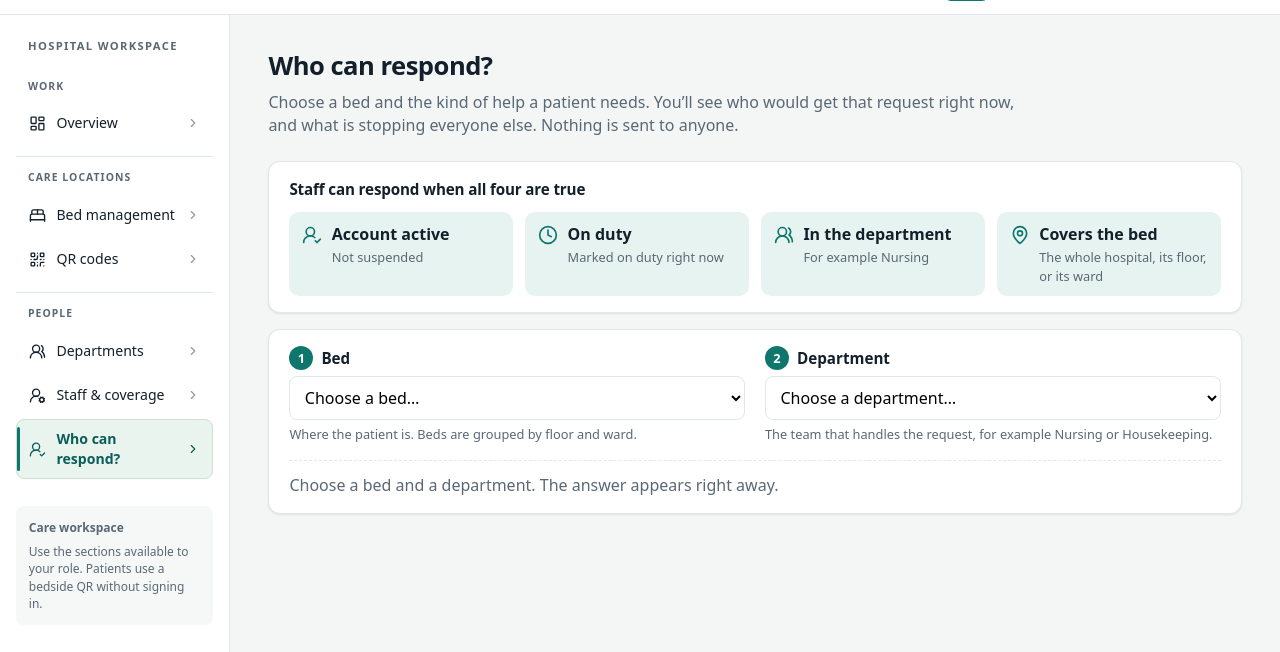
Scenario: Who can respond? › checks as soon as both are chosen and explains everyone else in the department
The image size is (1280, 652).
Select "Bed A 01" in the dropdown labelled "Bed" at (517,398), box [289,376,745,420]
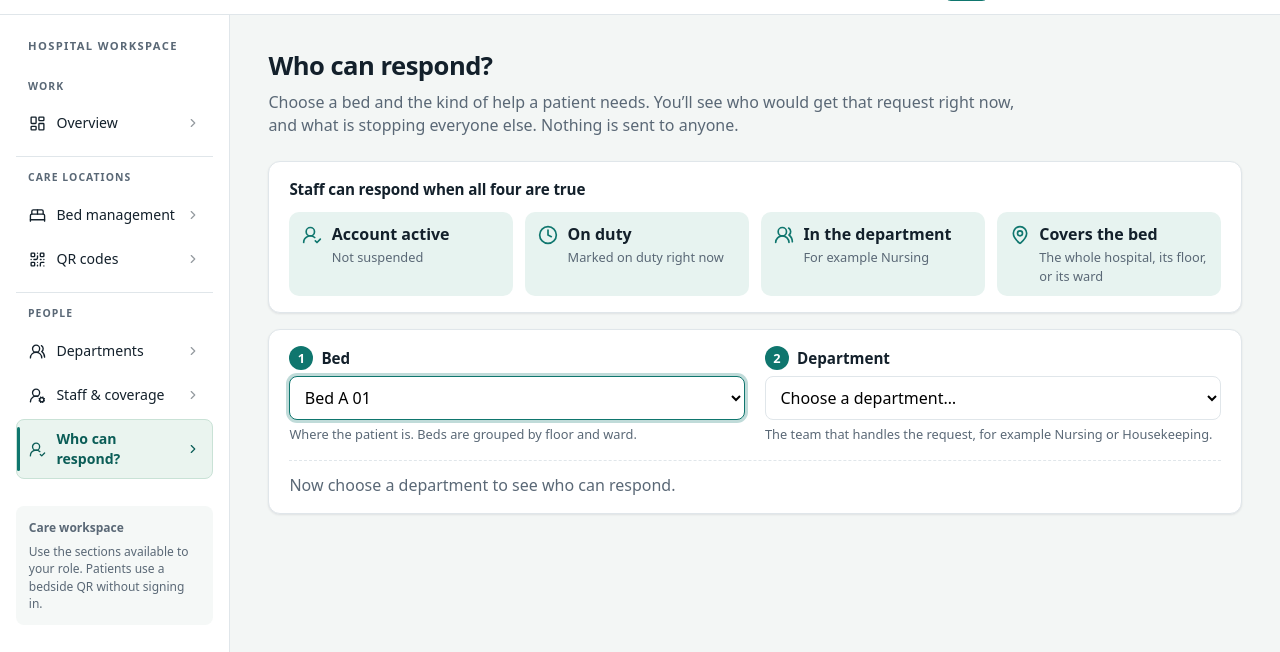
Check: the text "Now choose a department to see who can respond." is shown, box [289,460,1221,498]
Select "Nursing" in the dropdown labelled "Department" at (993,398), box [765,376,1221,420]
(page scrolled)
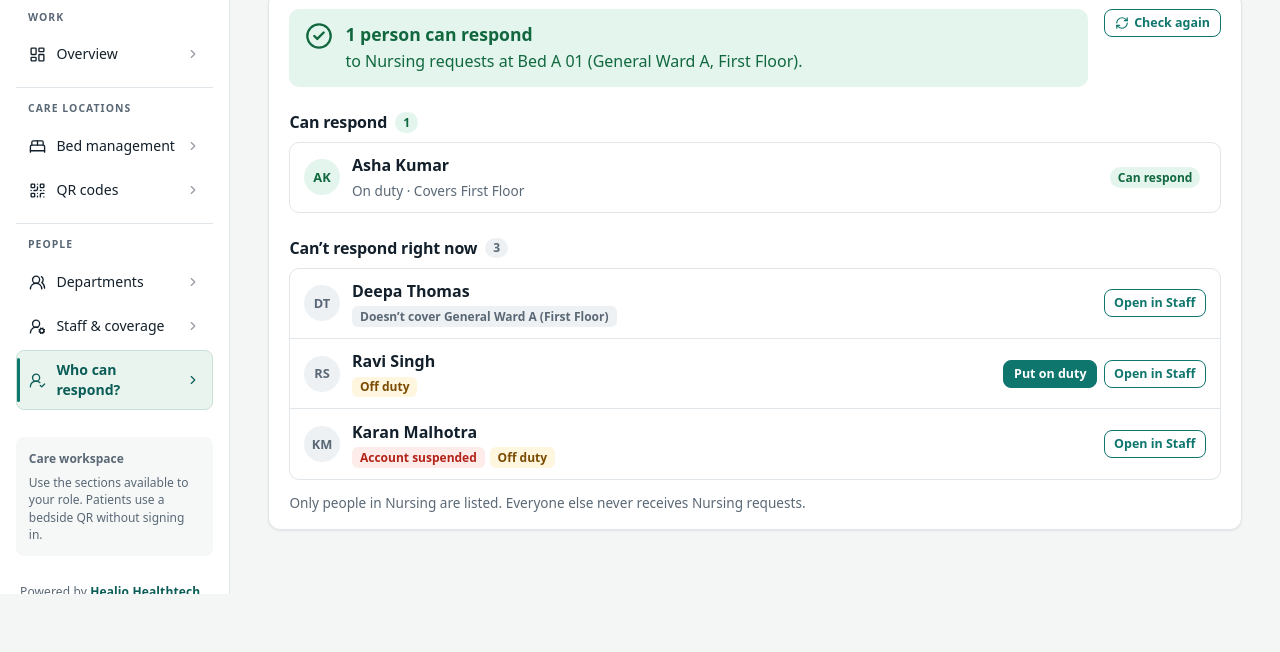
Check: the message shows "1 person can respond", box [345,22,533,46]
Check: the message shows "to Nursing requests at Bed A 01 (General Ward A, First Floor).", box [345,50,802,72]
Check: the text "Asha Kumar" is shown, box [352,154,449,176]
